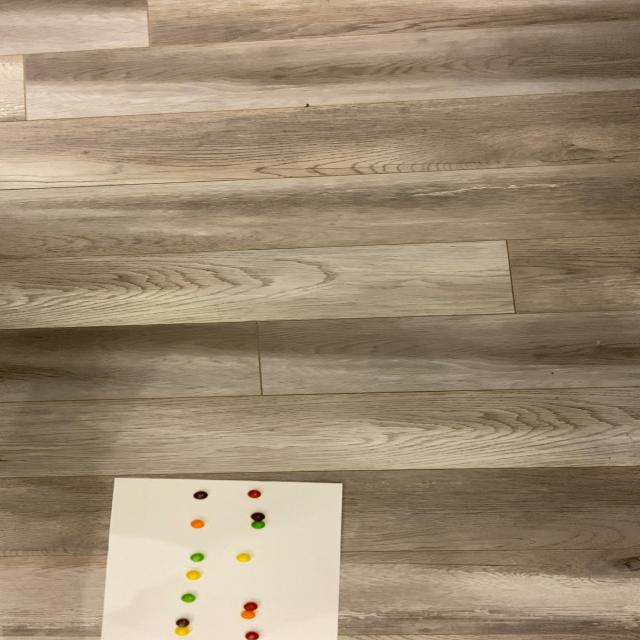smartie: (185, 570, 201, 580), (236, 553, 251, 563), (241, 610, 256, 620), (176, 618, 190, 628), (251, 512, 266, 521), (190, 520, 205, 529), (250, 520, 265, 529), (181, 593, 196, 602), (174, 628, 189, 637), (193, 492, 207, 501), (247, 490, 261, 499), (190, 553, 204, 562), (244, 632, 258, 640), (244, 603, 259, 610)
